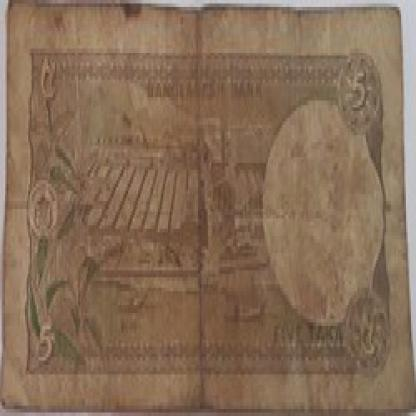Five Taka: (22, 308, 78, 385), (22, 48, 65, 114), (341, 45, 375, 121), (351, 308, 383, 371)
